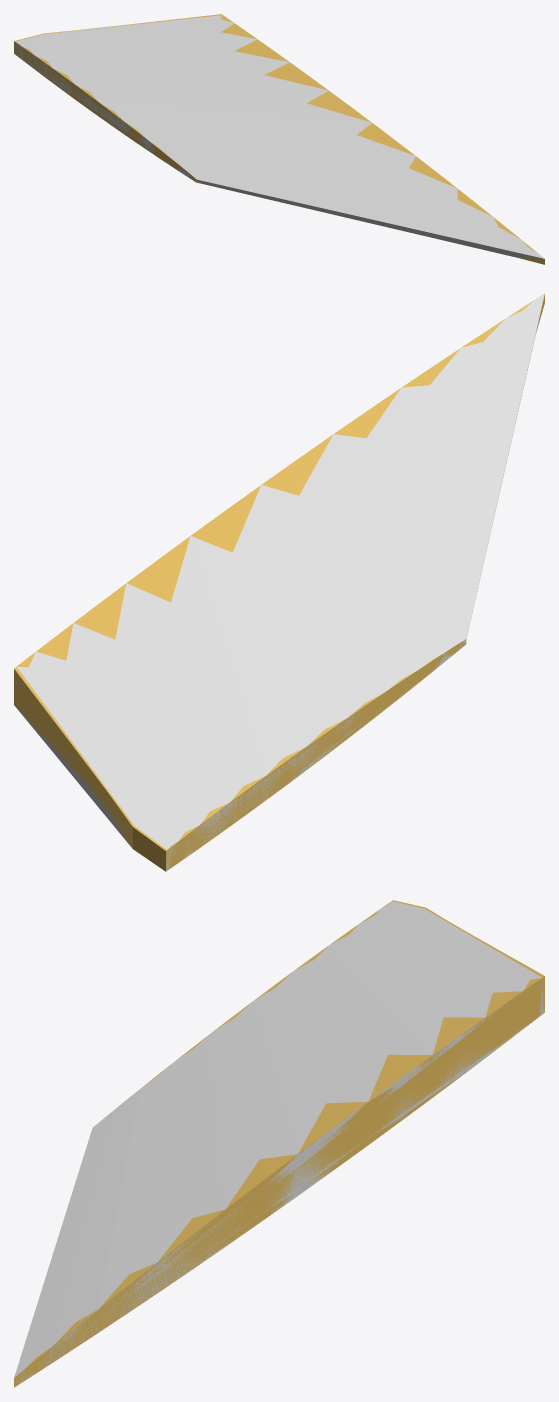
The model's file is fuel_strake_R.fbx.
3 renders of one model, top to bottom at view 1: azimuth 30°, elevation 25°; view 2: azimuth 150°, elevation 25°; view 3: azimuth 330°, elevation 25°, orthographic. The views are drawn at different scales.
Visible parts, largest first — view 1: fuel_strake_R_colmesh0, fuel_strake_R; view 2: fuel_strake_R_colmesh0, fuel_strake_R; view 3: fuel_strake_R_colmesh0, fuel_strake_R.
Part boxes in pixels (x1,y1,x2,y2): fuel_strake_R_colmesh0: (14, 15, 544, 258); fuel_strake_R: (14, 14, 544, 264); fuel_strake_R_colmesh0: (16, 293, 544, 870); fuel_strake_R: (14, 294, 544, 871); fuel_strake_R_colmesh0: (14, 901, 544, 1385); fuel_strake_R: (14, 900, 544, 1387).
Size of what is drawn, in the model's own units: 0.78 by 0.2404 by 3.43.
